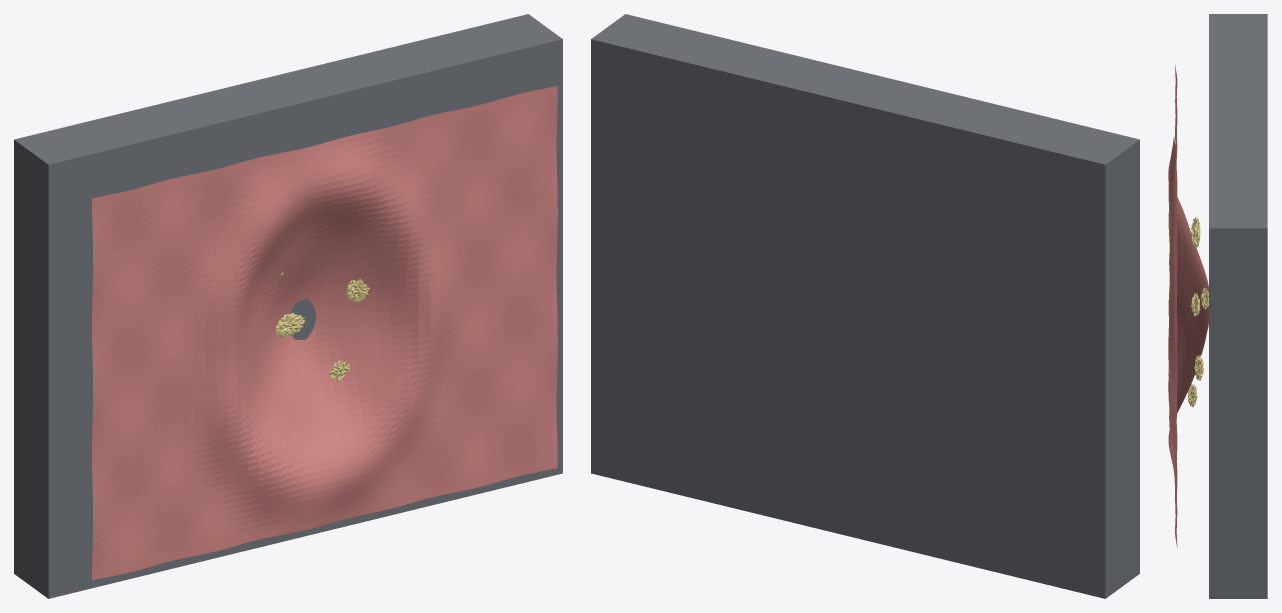
File: dranmar_wound_bed_demo.glb
3 views of the same model, side by side, from view 1: azimuth 30°, elevation 25°; view 2: azimuth 150°, elevation 25°; view 3: azimuth 270°, elevation 25° (orthographic). The views are drawn at different scales.
Parts seen in each view (by area): view 1: wound_surface, wound_base; view 2: wound_base; view 3: wound_base, wound_surface, debris_01, debris_05, debris_03, debris_06.
Boxes of the visible parts, <box> form: wound_surface: <box>92,86,557,580</box>; wound_base: <box>14,14,562,598</box>; wound_base: <box>591,14,1139,598</box>; wound_base: <box>1209,14,1267,598</box>; wound_surface: <box>1168,64,1208,548</box>; debris_01: <box>1194,355,1203,380</box>; debris_05: <box>1191,223,1200,248</box>; debris_03: <box>1190,292,1200,315</box>; debris_06: <box>1188,383,1197,407</box>.
Size of the model in its own units: 0.155 by 0.125 by 0.0304.
